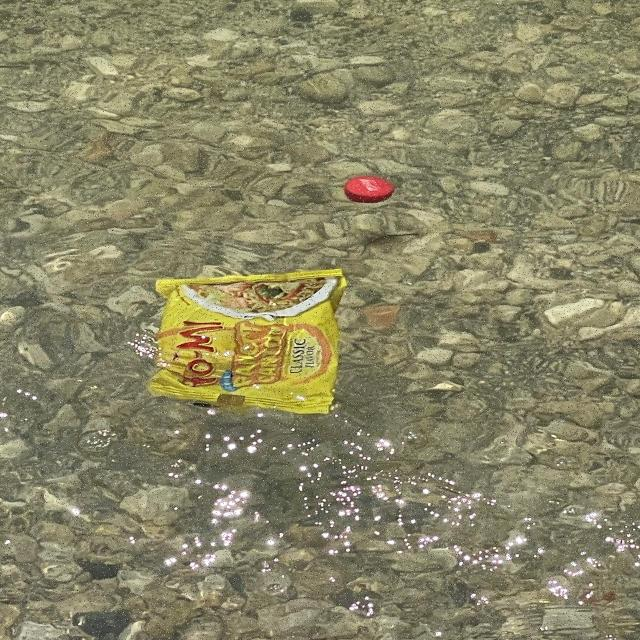plastic_waste: (150, 274, 350, 418), (344, 175, 396, 208)
